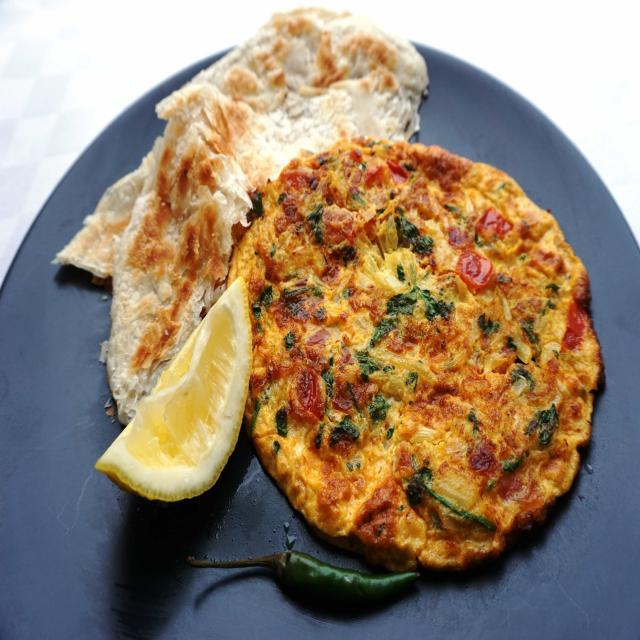telur_ayam_dadar: (225, 134, 605, 574)
